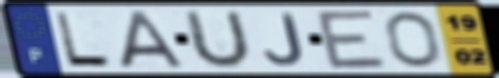A: (118, 9, 186, 70)
E: (313, 8, 391, 71)
J: (261, 11, 307, 68)
L: (52, 10, 116, 69)
O: (382, 10, 444, 69)
U: (183, 8, 254, 71)
